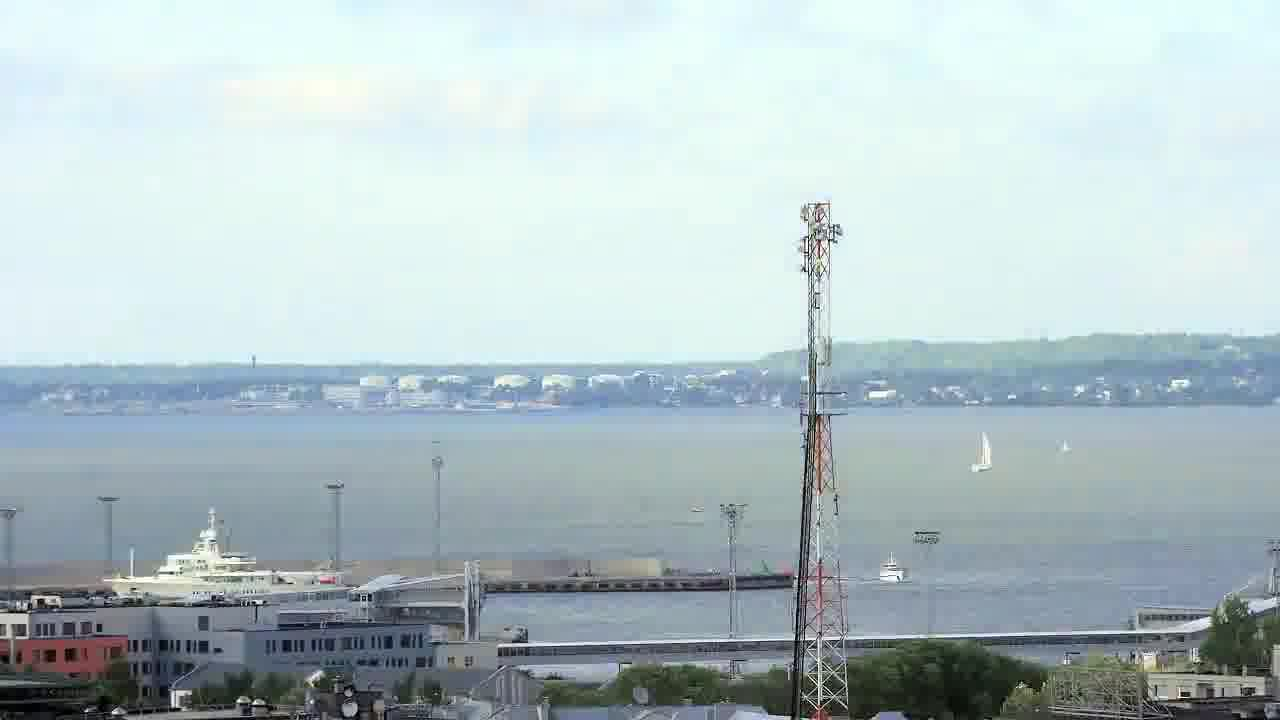type-1: (862, 546, 919, 592)
type-2: (955, 418, 1010, 486)
type-3: (84, 515, 355, 603)
